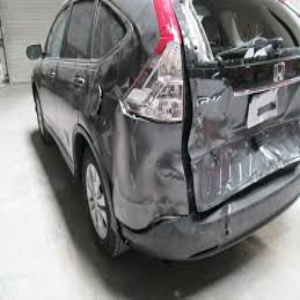bumper: (122, 201, 239, 256)
